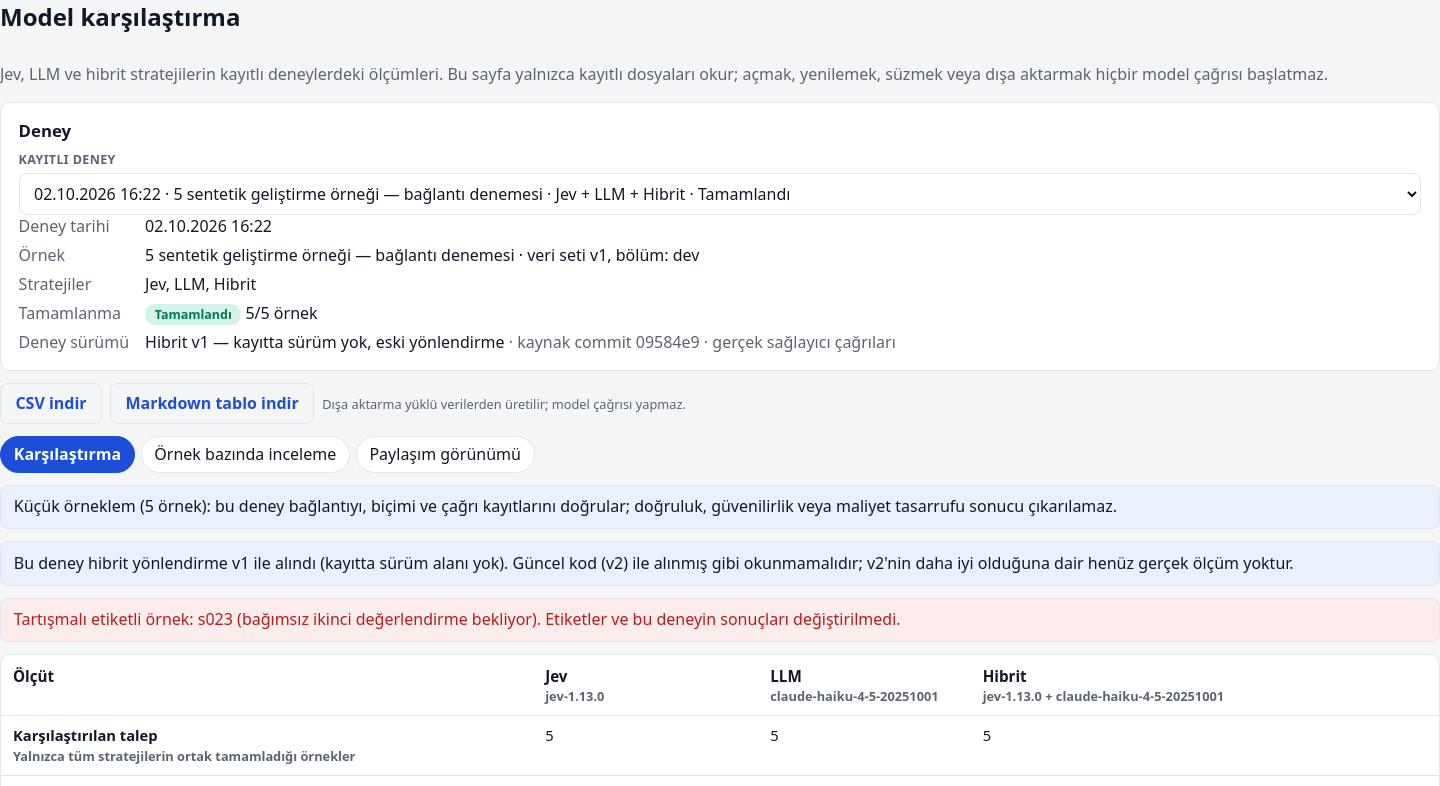
Scenario: örnek bazında inceleme › süzgeç yalnızca tartışmalı / yanlış tahmin edilen örnekleri bırakır
Click the tab "Örnek bazında inceleme" at (245, 455), box left=140, top=436, right=350, bottom=473
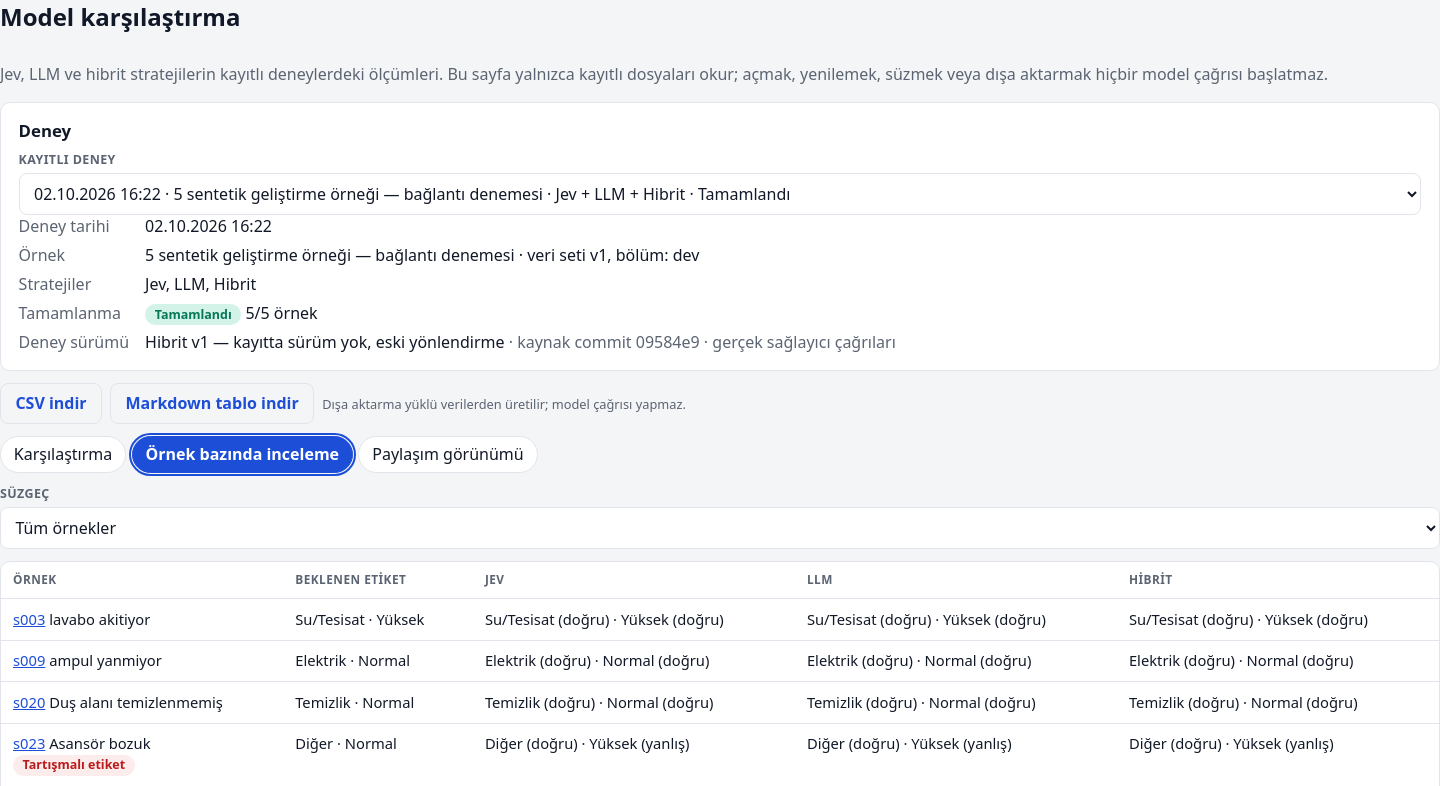
Select "Tartışmalı etiketliler" in the dropdown named "Örnek süzgeci" at (720, 528), box left=0, top=507, right=1439, bottom=549
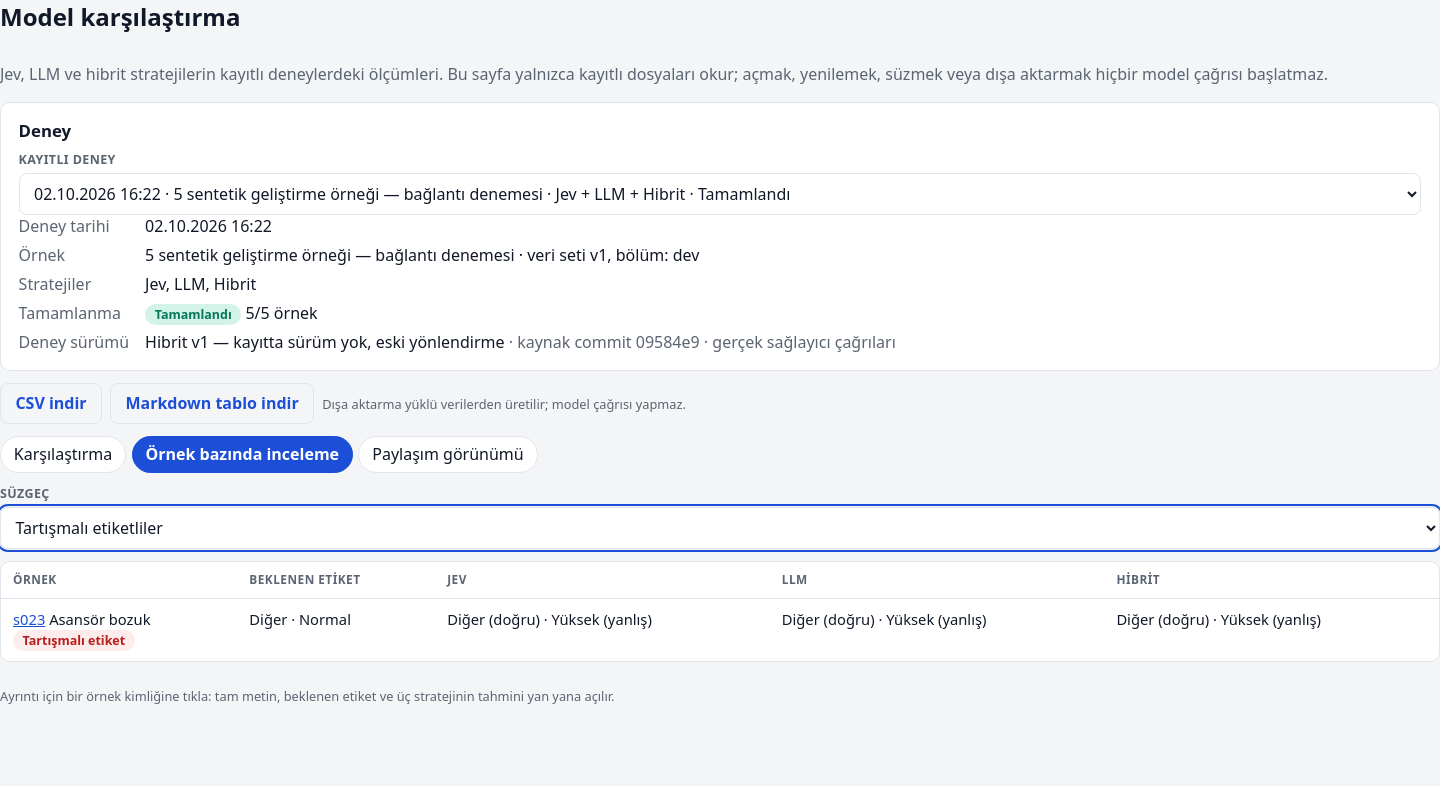
Result: the text "Asansör bozuk" is shown at left=49, top=609, right=150, bottom=629
Result: the number of rows is 2 at left=1, top=562, right=1439, bottom=599; left=1, top=599, right=1439, bottom=661
Select "En az birinin incelemeye gönderdikleri" in the dropdown named "Örnek süzgeci" at (720, 528), box left=0, top=507, right=1439, bottom=549
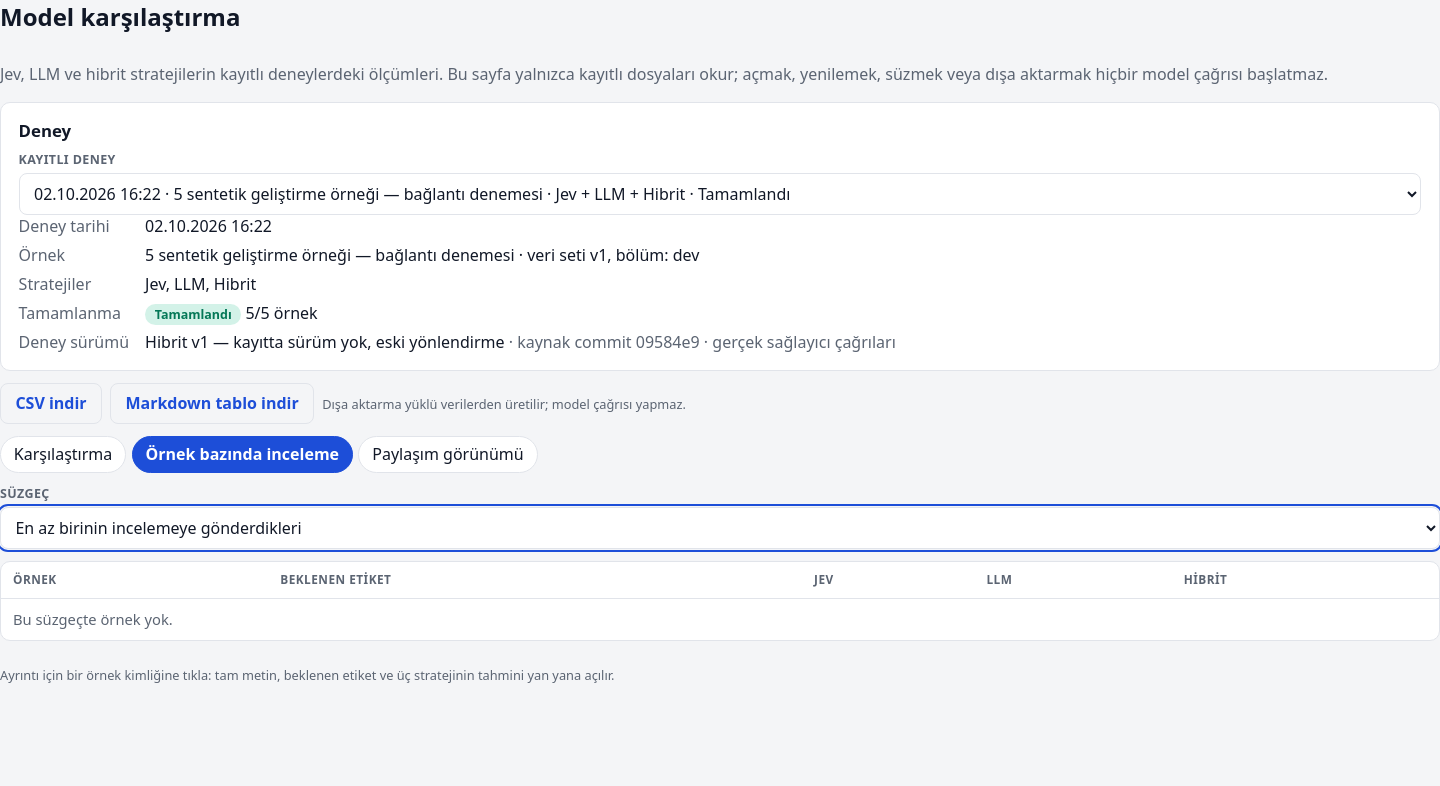
Result: the text "Bu süzgeçte örnek yok." is shown at left=1, top=599, right=1439, bottom=640
